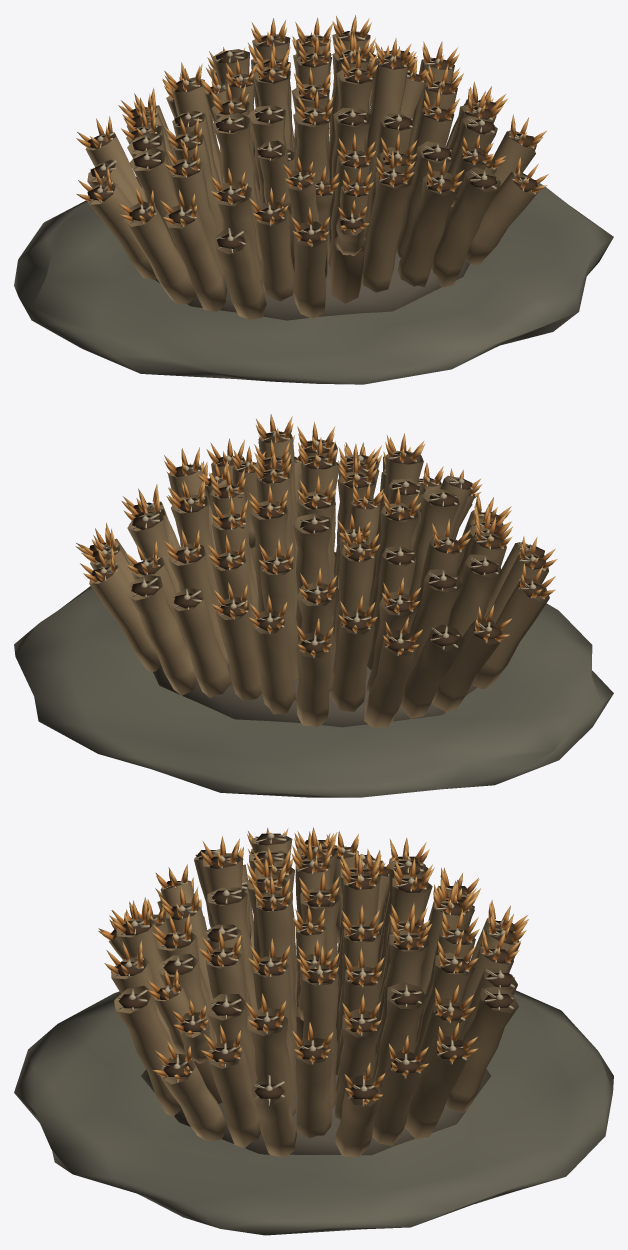
File: Lithostrotion.fbx
3 renders of one model, top to bottom at view 1: azimuth 30°, elevation 25°; view 2: azimuth 150°, elevation 25°; view 3: azimuth 270°, elevation 25°, orthographic. The views are drawn at different scales.
Parts seen in each view (by area): view 1: Lithostrotion; view 2: Lithostrotion; view 3: Lithostrotion.
Part boxes in pixels (x1,y1,x2,y2): Lithostrotion: (14, 15, 613, 384); Lithostrotion: (14, 414, 613, 797); Lithostrotion: (14, 827, 613, 1235).
Size of the model in its own units: 1.41 by 0.6336 by 1.3.
